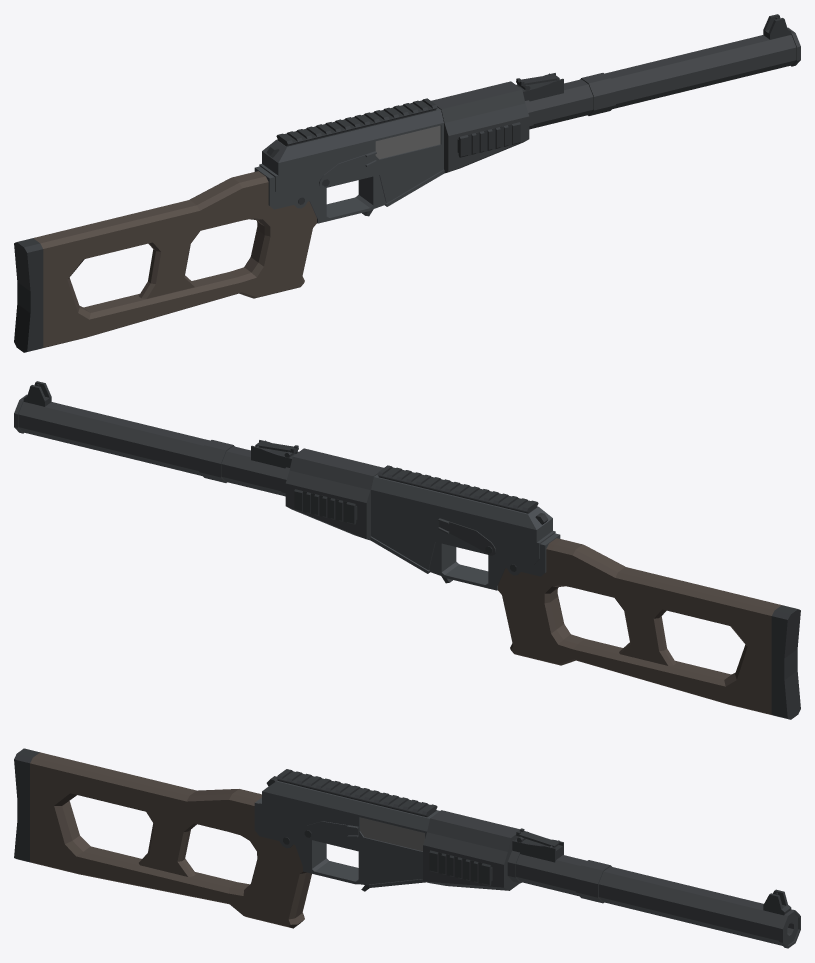
File: SniperRifle6_03.fbx
The picture shows the model from 3 angles, top to bottom: view 1: azimuth 30°, elevation 25°; view 2: azimuth 150°, elevation 25°; view 3: azimuth 330°, elevation 25°; orthographic projection.
Parts seen in each view (by area): view 1: SniperRifle6_03; view 2: SniperRifle6_03; view 3: SniperRifle6_03.
Part boxes in pixels (x1=…): SniperRifle6_03: x1=14, y1=14, x2=800, y2=352; SniperRifle6_03: x1=14, y1=381, x2=800, y2=719; SniperRifle6_03: x1=14, y1=748, x2=800, y2=948.
Bounding box in the file's own units: 0.9508 × 0.1767 × 0.0662.
